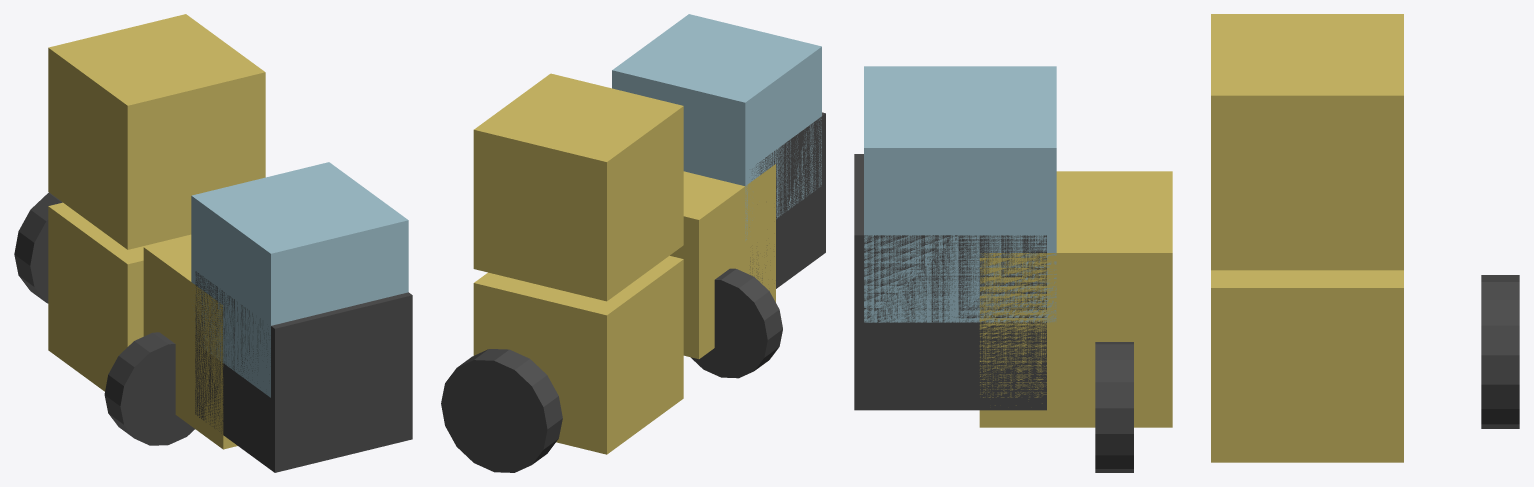
File: veh_auto_rickshaw.glb
The picture shows the model from 3 angles, left to right: view 1: azimuth 30°, elevation 25°; view 2: azimuth 150°, elevation 25°; view 3: azimuth 270°, elevation 25°; orthographic projection. The views are drawn at different scales.
Visible parts, largest first — view 1: world; view 2: world; view 3: world.
Boxes of the visible parts, left/top/right/bottom form: world: left=14, top=14, right=412, bottom=472; world: left=441, top=14, right=825, bottom=472; world: left=854, top=14, right=1519, bottom=472.
Size of the model in its own units: 1.8 by 2.1 by 3.45.
